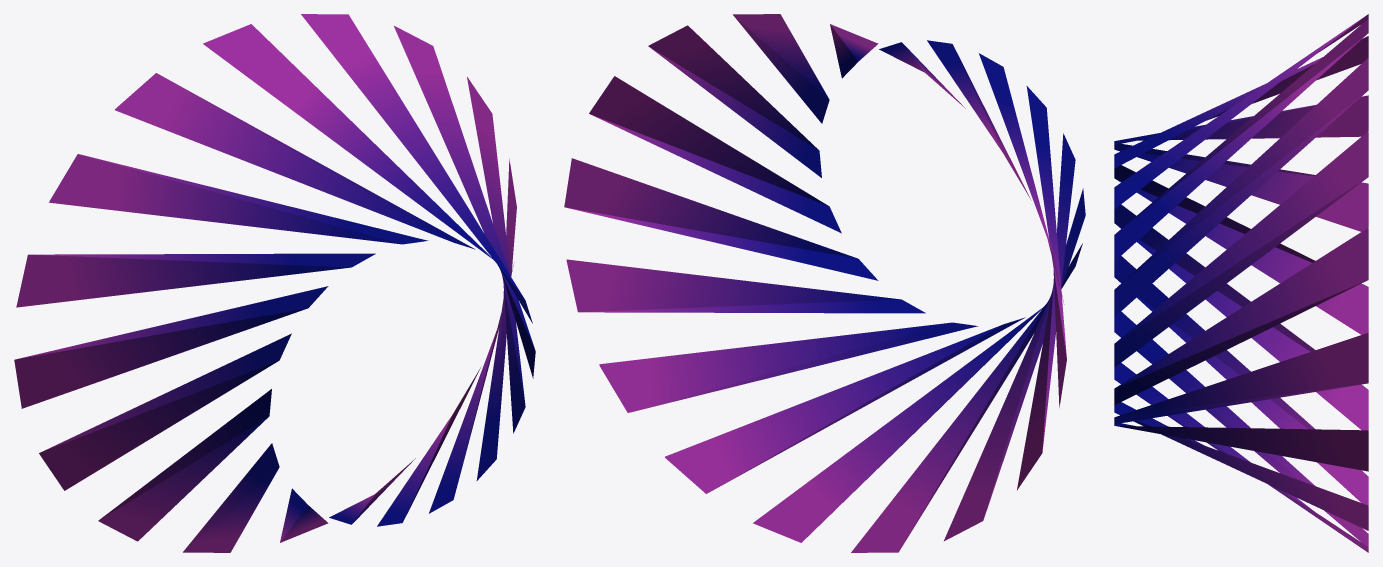
Rendered from enemyHit_effect.obj.
The picture shows the model from 3 angles, left to right: view 1: azimuth 30°, elevation 25°; view 2: azimuth 150°, elevation 25°; view 3: azimuth 270°, elevation 25°; orthographic projection. The views are drawn at different scales.
Parts seen in each view (by area): view 1: 円錐; view 2: 円錐; view 3: 円錐.
Part boxes in pixels (x1=…): 円錐: x1=14, y1=14, x2=535, y2=552; 円錐: x1=564, y1=14, x2=1085, y2=552; 円錐: x1=1114, y1=14, x2=1368, y2=552.
Bounding box in the file's own units: 1.85 × 1.85 × 0.8754.
Materials: 1 (1 with a texture image).
